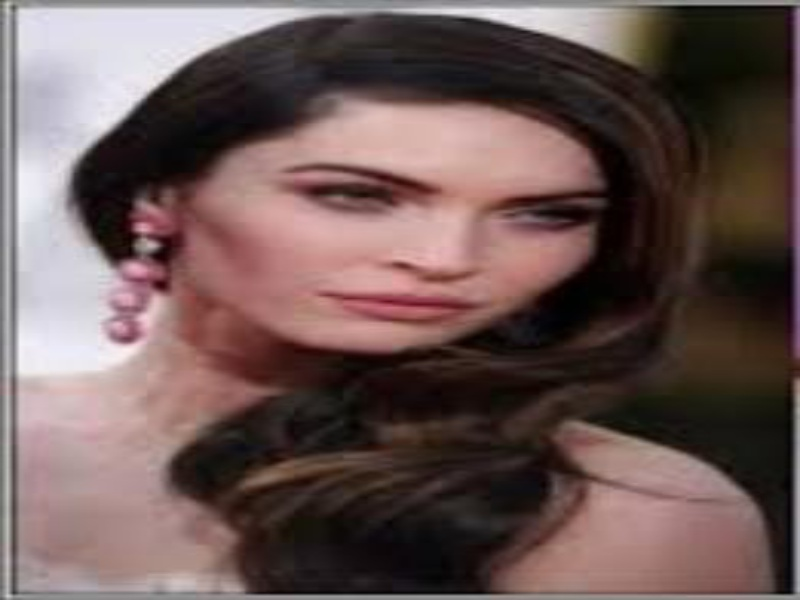TsisyArotava: (162, 12, 649, 400)
